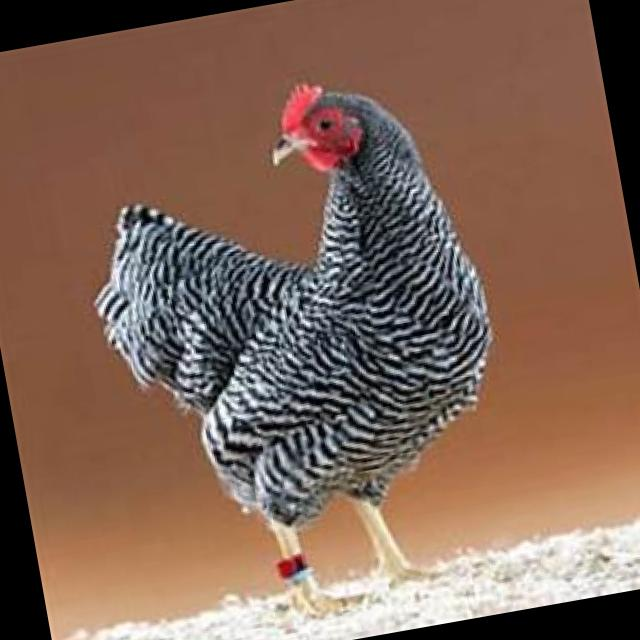animal: (94, 68, 534, 623)
